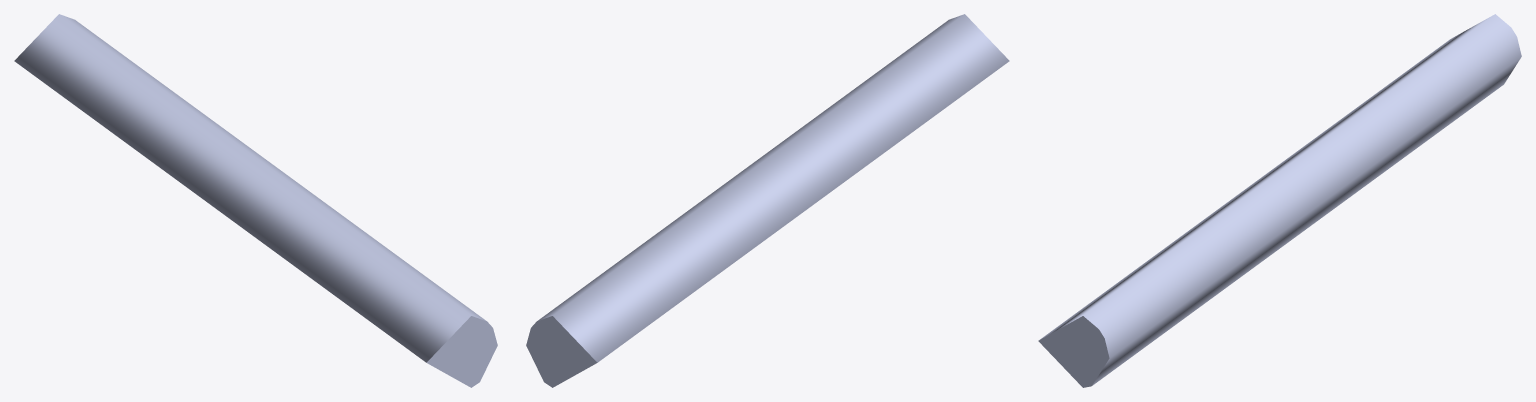
The model's file is pin.obj.
3 renders of one model, left to right at view 1: azimuth 30°, elevation 25°; view 2: azimuth 150°, elevation 25°; view 3: azimuth 330°, elevation 25°, orthographic.
Visible parts, largest first — view 1: mesh 1 pin; view 2: mesh 1 pin; view 3: mesh 1 pin.
Part boxes in pixels (x1,y1,x2,y2): mesh 1 pin: [14, 14, 497, 387]; mesh 1 pin: [526, 14, 1009, 387]; mesh 1 pin: [1038, 14, 1521, 387].
Bounding box in the file's own units: 0.001 × 0.000966 × 0.01.
